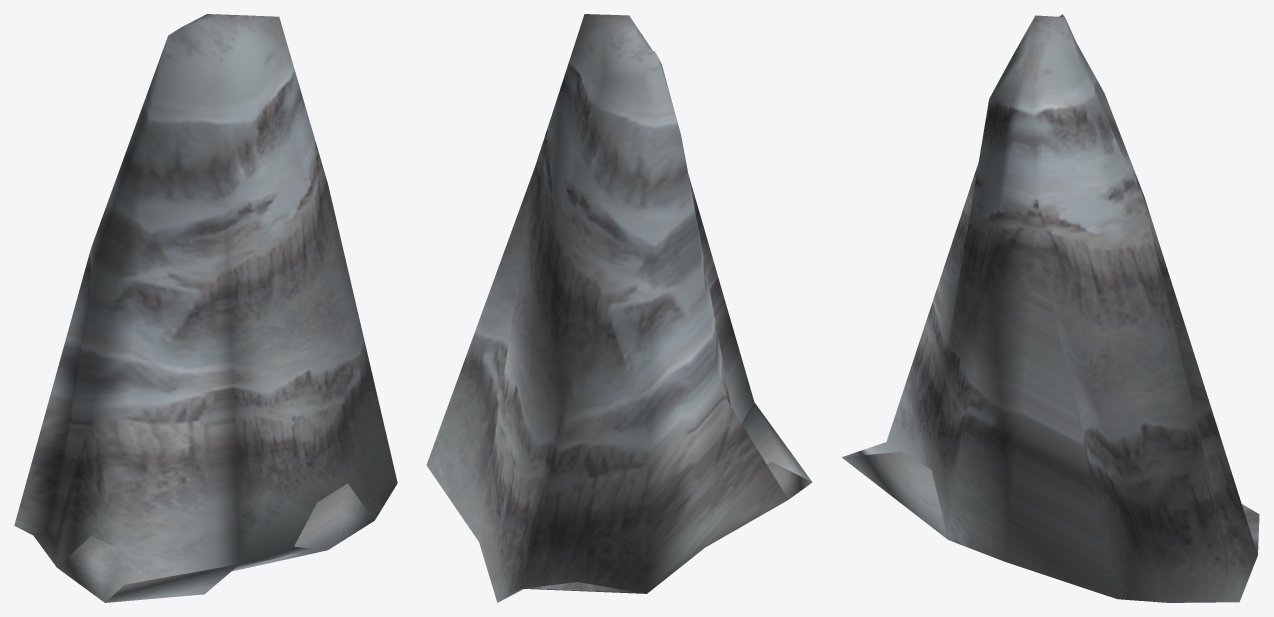
File: SnowyMountain_4.gltf
3 renders of one model, left to right at view 1: azimuth 30°, elevation 25°; view 2: azimuth 150°, elevation 25°; view 3: azimuth 270°, elevation 25°, orthographic. The views are drawn at different scales.
Parts seen in each view (by area): view 1: SnowyMountain_4; view 2: SnowyMountain_4; view 3: SnowyMountain_4.
Boxes of the visible parts, left/top/right/bottom form: SnowyMountain_4: left=14, top=14, right=397, bottom=602; SnowyMountain_4: left=426, top=14, right=812, bottom=602; SnowyMountain_4: left=842, top=14, right=1259, bottom=602.
Size of the model in its own units: 117 by 185 by 124.
1 material, 1 textured.
